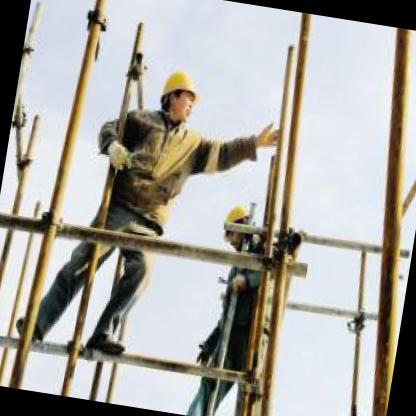helmet: (154, 58, 206, 132), (217, 195, 266, 256)
